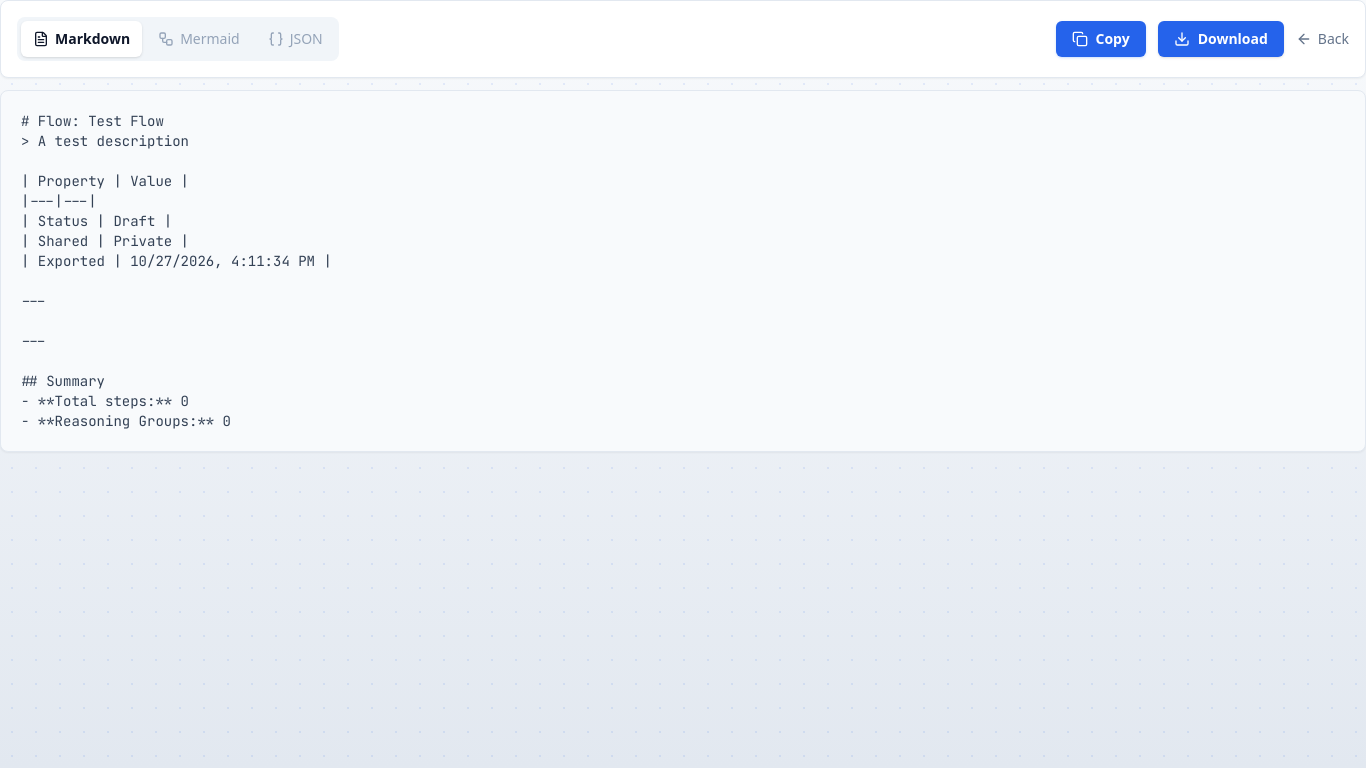
it: ExportPhase › shows Mermaid hint when Mermaid format is selected
Click the button titled "Flowchart diagram (GitHub/Quip)" at coordinates (199, 39), box [146, 21, 252, 57]
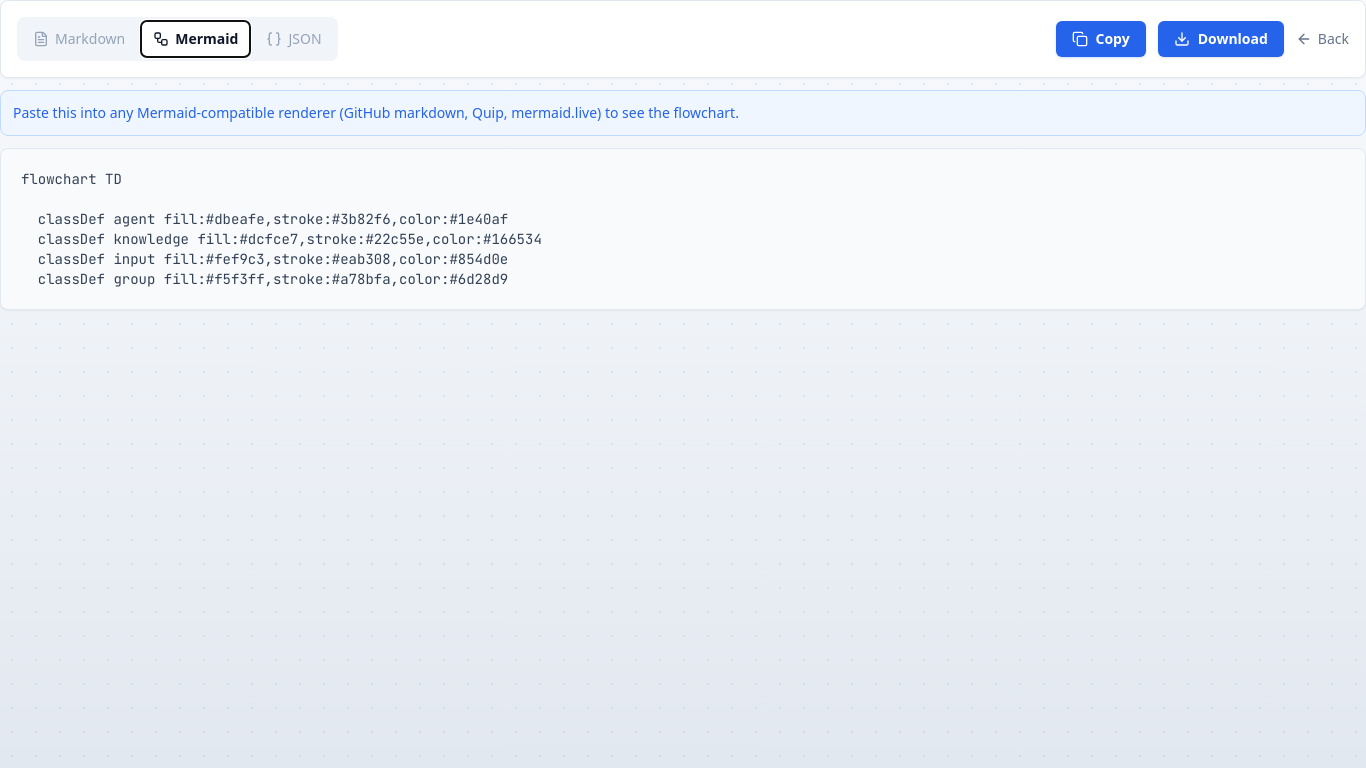
Check: the text "Mermaid-compatible renderer" is shown, box [13, 103, 739, 122]
